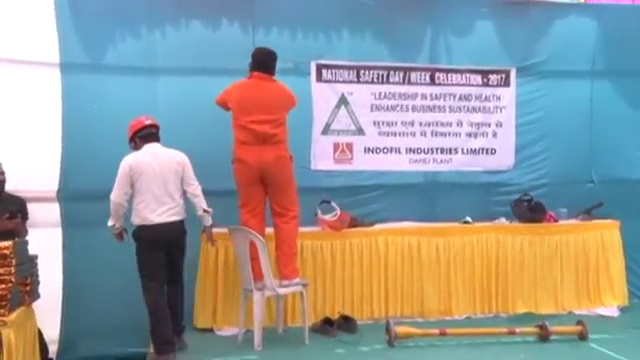helmet: (126, 114, 160, 137)
helmet_off: (246, 45, 280, 79)
helmet_on: (124, 113, 162, 151)
person: (106, 109, 218, 357), (217, 45, 308, 286), (1, 161, 31, 238)
